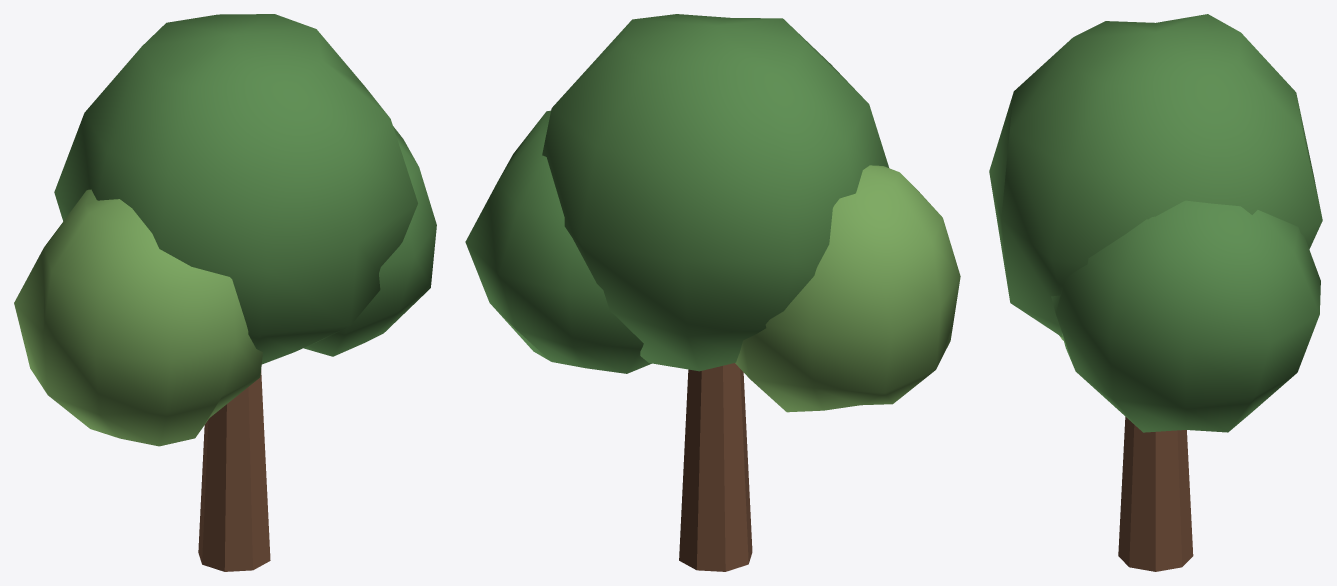
The model's file is broadleaf.glb.
The picture shows the model from 3 angles, left to right: view 1: azimuth 30°, elevation 25°; view 2: azimuth 150°, elevation 25°; view 3: azimuth 270°, elevation 25°; orthographic projection.
Parts seen in each view (by area): view 1: broadleaf; view 2: broadleaf; view 3: broadleaf.
Boxes of the visible parts, x1,y1,x2,y2 form: broadleaf: (14, 14, 436, 571); broadleaf: (465, 14, 960, 571); broadleaf: (989, 14, 1322, 571).
Bounding box in the file's own units: 3.15 × 3.85 × 2.22.
